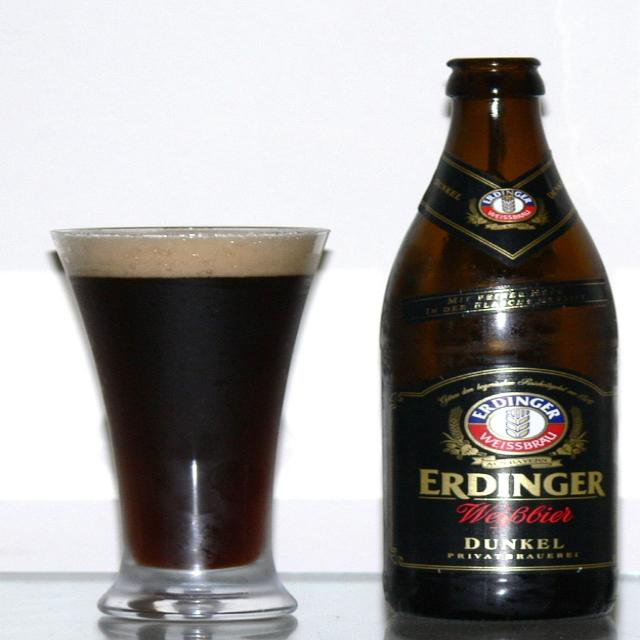erdinger: (409, 378, 619, 503), (469, 185, 546, 233)
